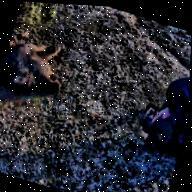boar: (0, 29, 77, 116)
